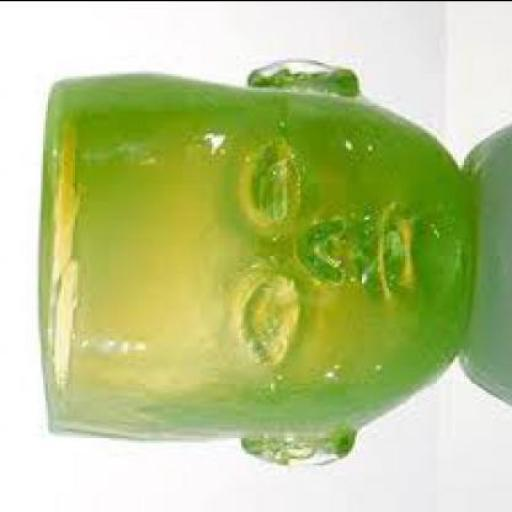glass: (37, 54, 477, 460)
